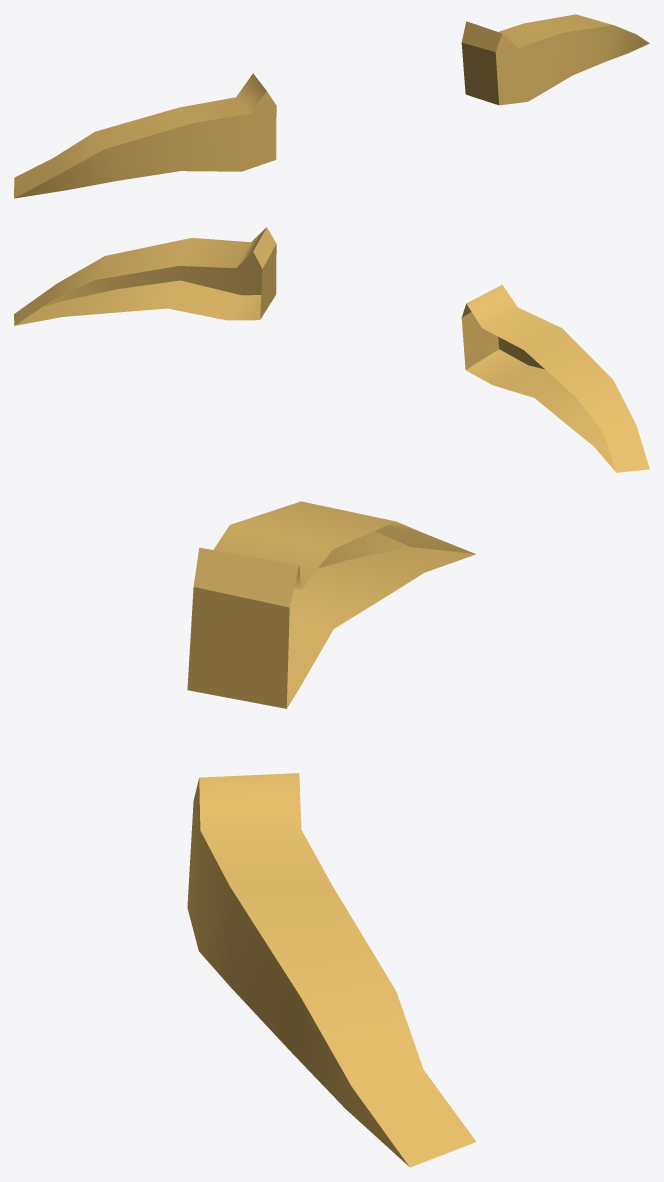
The model's file is Eyebrow_9.fbx.
3 views of the same model, one above another, from view 1: azimuth 30°, elevation 25°; view 2: azimuth 150°, elevation 25°; view 3: azimuth 270°, elevation 25° (orthographic). The views are drawn at different scales.
Parts seen in each view (by area): view 1: Eyebrow_9; view 2: Eyebrow_9; view 3: Eyebrow_9.
Boxes of the visible parts, box(x1,y1,x2,y2) form: Eyebrow_9: box(14, 14, 649, 198); Eyebrow_9: box(14, 227, 649, 472); Eyebrow_9: box(187, 501, 476, 1167).
Size of the model in its own units: 32.72 by 4.78 by 6.44.
